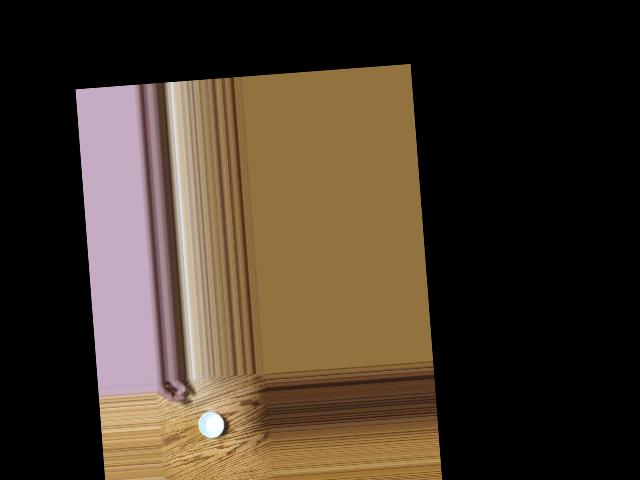cotage: (194, 406, 225, 441)
